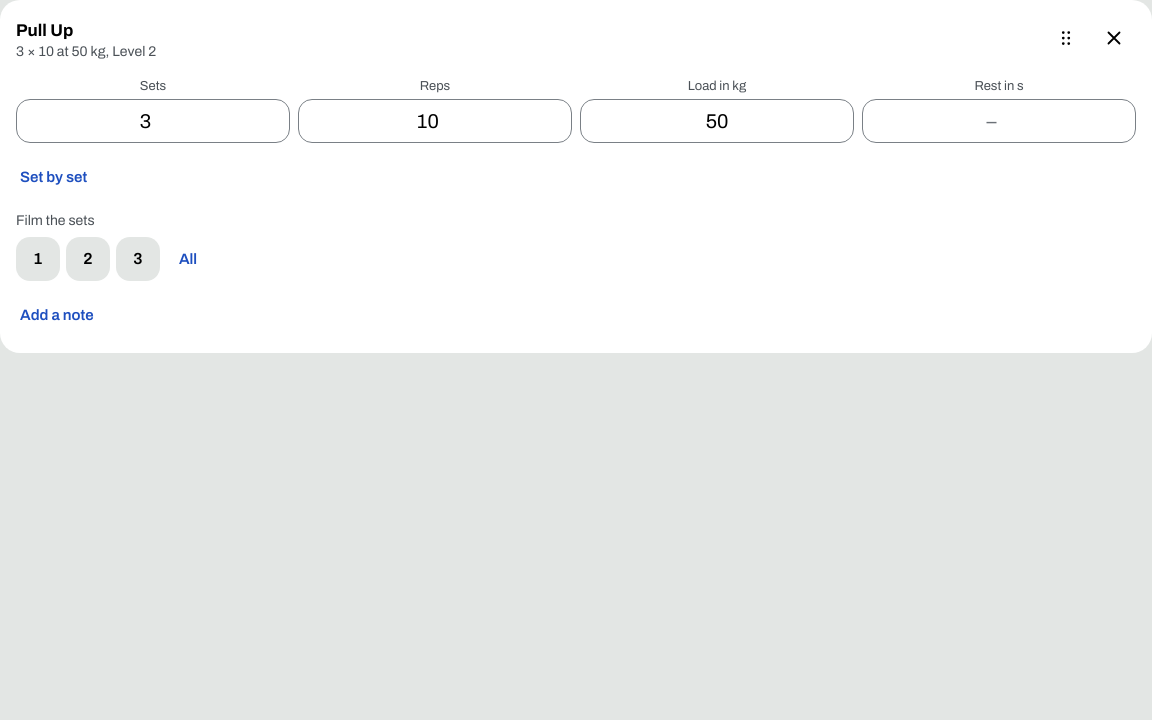
Test case: ExerciseSlotRow › clicking "All sets alike" goes back to the compact row
Click the button "Set by set" at coordinates (54, 177), box [16,155,91,199]
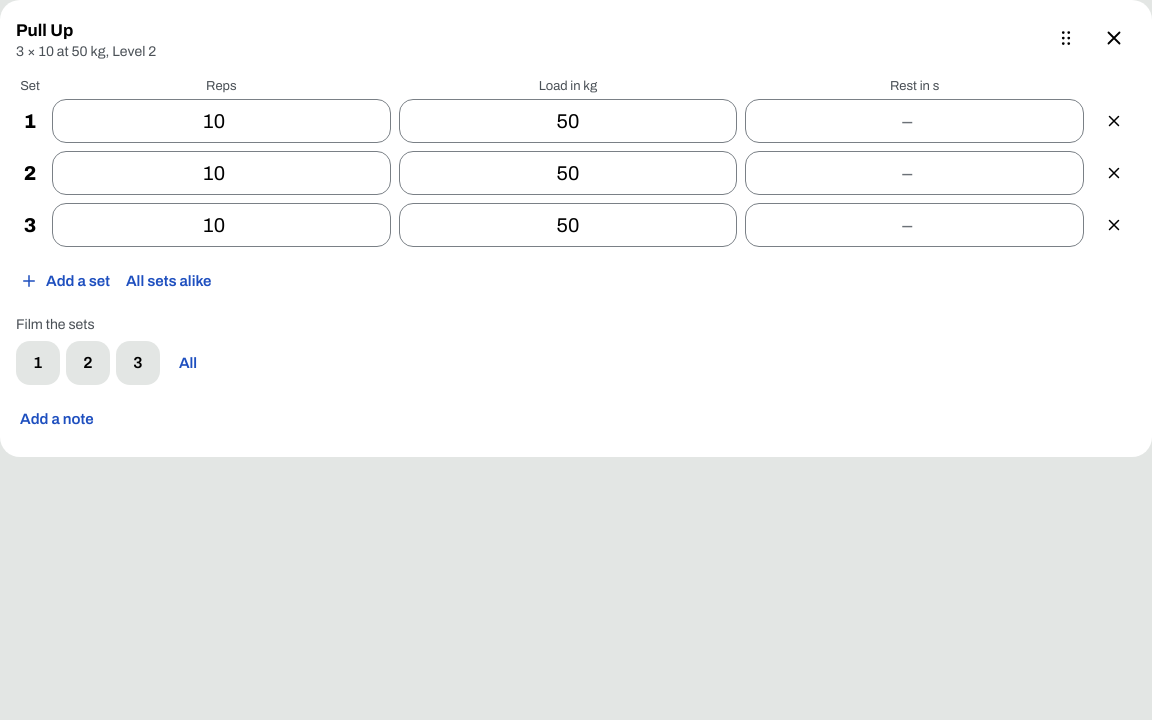
Click the button "All sets alike" at coordinates (169, 281), box [122,259,216,303]
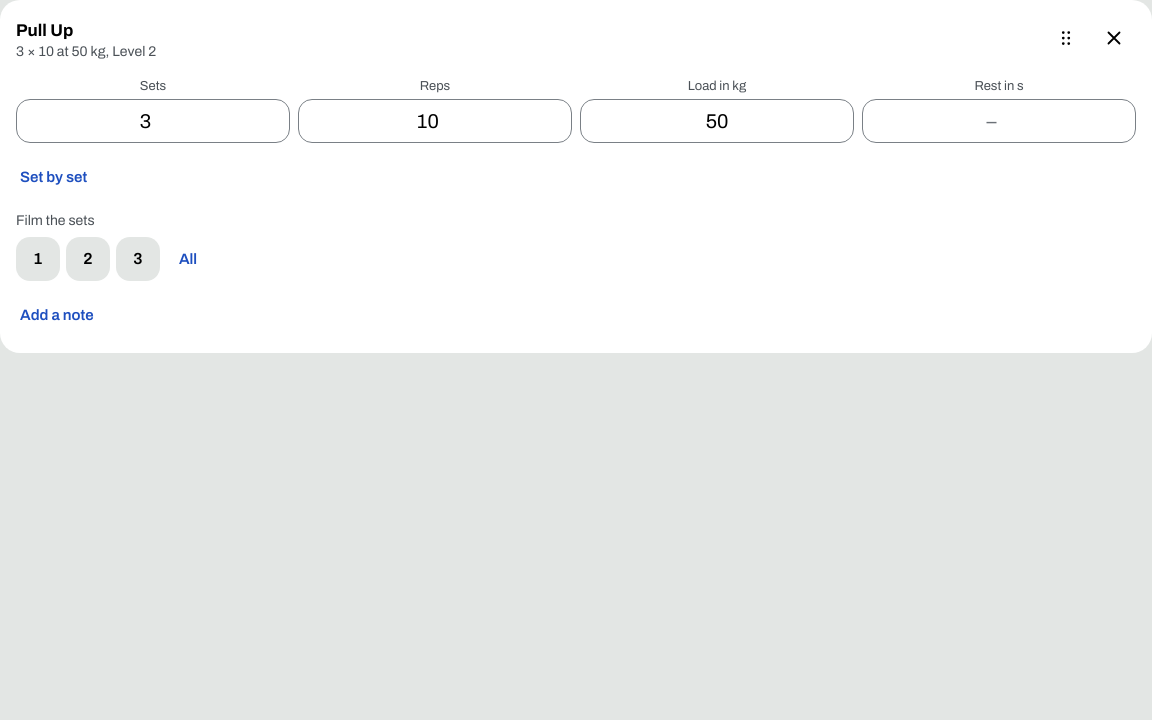
Expected: the number field labelled "Sets" holds "3", [16,99,290,143]
